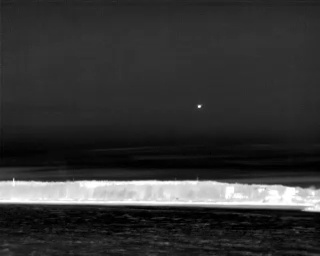HELICOPTER: (195, 101, 205, 112)
